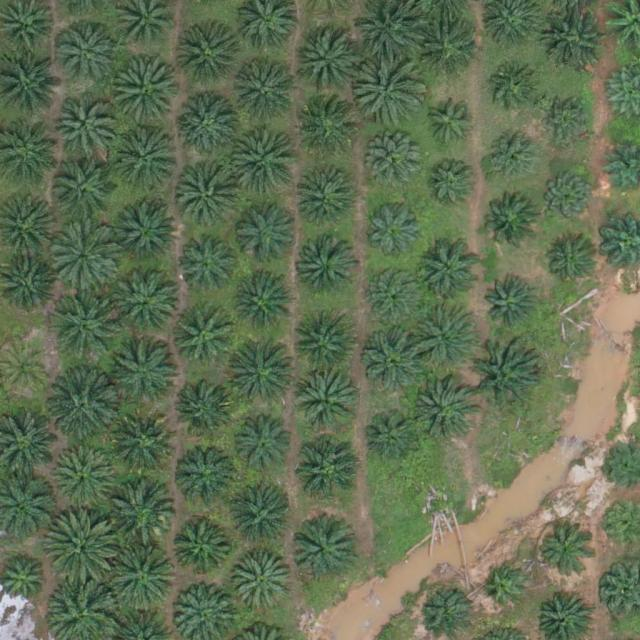Healthy: (106, 476, 177, 547), (49, 221, 119, 292), (110, 58, 181, 128), (230, 125, 301, 195), (234, 56, 304, 127), (299, 24, 369, 95), (355, 56, 425, 127), (108, 540, 178, 611), (47, 510, 117, 581), (469, 340, 539, 411), (408, 301, 478, 372), (228, 337, 298, 408), (48, 293, 118, 364), (112, 123, 182, 193), (48, 372, 118, 442), (54, 94, 117, 157), (115, 198, 178, 261), (294, 99, 357, 162), (297, 239, 360, 302), (419, 18, 482, 81), (544, 4, 607, 67), (290, 521, 353, 584), (232, 552, 295, 615), (292, 370, 355, 433), (292, 315, 355, 378), (232, 273, 295, 336), (110, 415, 173, 478), (56, 22, 118, 85), (175, 24, 237, 87), (179, 92, 241, 155), (178, 170, 240, 233), (236, 203, 298, 266), (297, 171, 359, 234), (365, 200, 427, 263), (419, 240, 481, 303), (231, 490, 293, 553), (169, 518, 231, 581), (412, 379, 474, 442), (365, 327, 427, 390), (174, 376, 237, 438), (115, 272, 178, 334), (115, 345, 178, 407), (54, 448, 116, 511), (50, 161, 112, 223), (296, 439, 358, 501), (231, 413, 293, 475), (176, 441, 238, 503), (171, 304, 233, 366), (422, 157, 477, 213), (368, 267, 423, 323), (543, 236, 598, 291), (540, 169, 595, 224), (540, 94, 595, 149), (488, 66, 543, 121), (484, 131, 539, 186), (369, 139, 424, 194), (539, 526, 594, 581), (365, 409, 420, 464), (420, 99, 474, 154), (482, 194, 536, 249), (180, 238, 234, 293), (485, 279, 539, 334)
Small: (484, 565, 531, 612)
